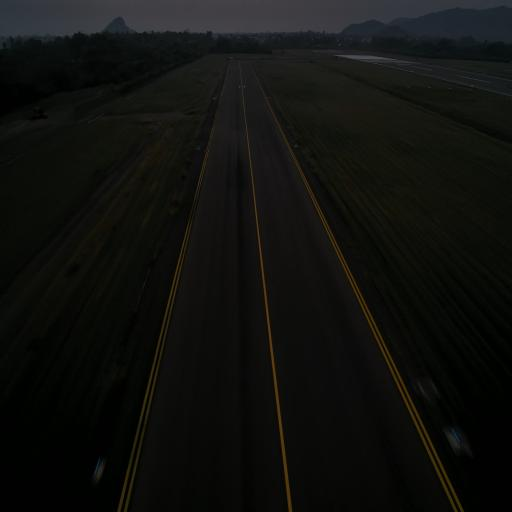on: (91, 453, 102, 481), (450, 422, 460, 446), (197, 143, 201, 150), (295, 141, 298, 147)
